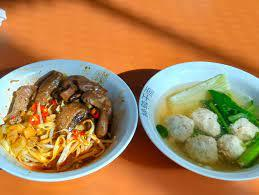Braised Crucian Carp: (0, 58, 137, 182), (138, 61, 257, 181)
